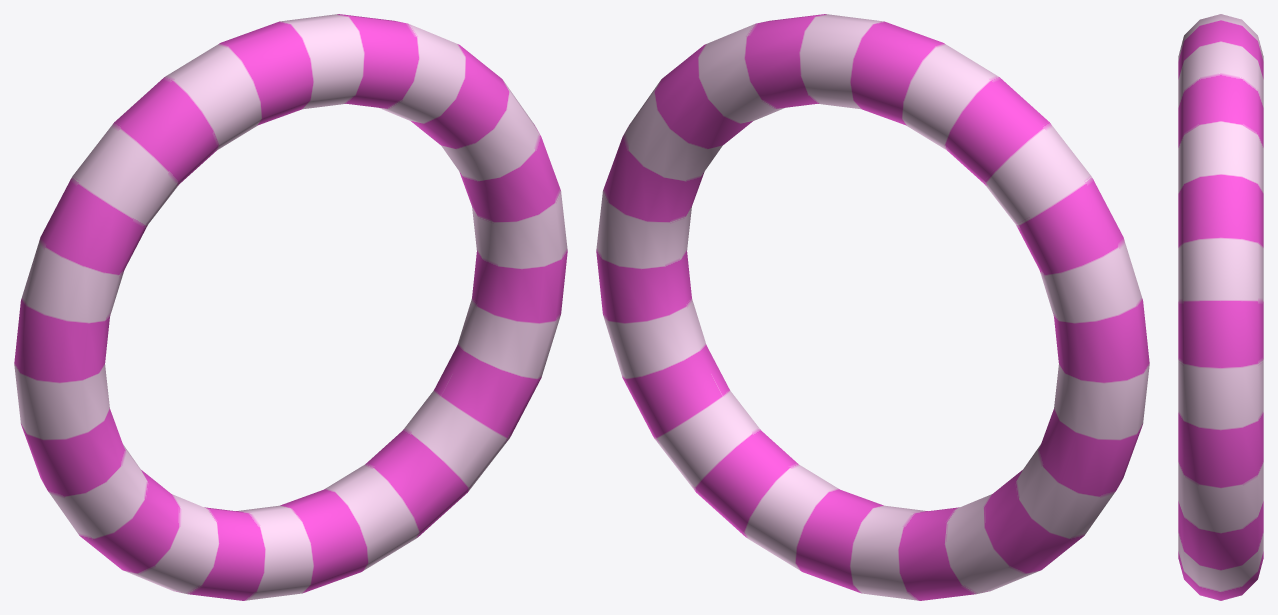
File: Goal.fbx
The picture shows the model from 3 angles, left to right: view 1: azimuth 30°, elevation 25°; view 2: azimuth 150°, elevation 25°; view 3: azimuth 270°, elevation 25°; orthographic projection. The views are drawn at different scales.
Parts seen in each view (by area): view 1: Torus.001; view 2: Torus.001; view 3: Torus.001.
Part boxes in pixels (x1,y1,x2,y2): Torus.001: (14,14,567,600); Torus.001: (596,14,1149,600); Torus.001: (1178,14,1263,600).
Size of the model in its own units: 23.4 by 23.4 by 3.4.
1 material, 1 textured.
